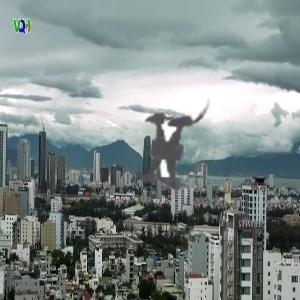drone: (70, 60, 261, 251)
